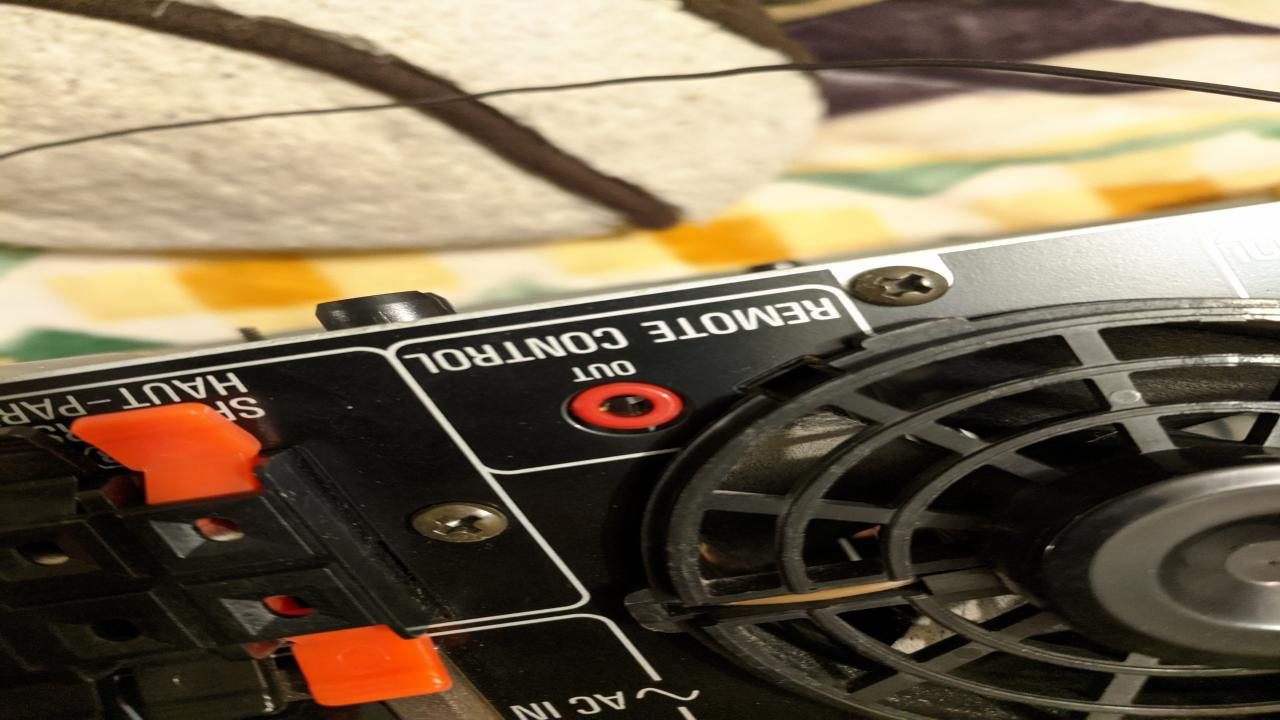CRS: (404, 502, 511, 547), (848, 264, 949, 309)
